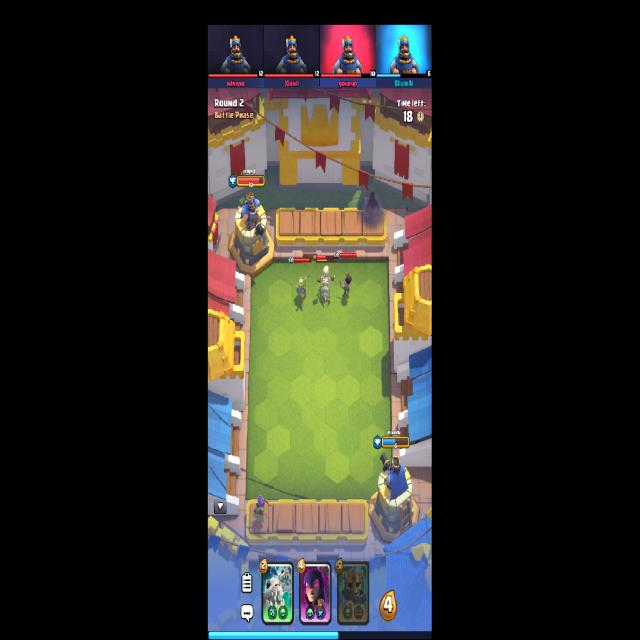archer_queen: (253, 493, 272, 523)
card_skeleton_king: (261, 562, 294, 624), (337, 562, 369, 625)
card_witch: (299, 562, 332, 626)
princess: (338, 272, 354, 298)
skeleton_dragon: (317, 265, 335, 303)
spear_goblin: (296, 273, 310, 299)
